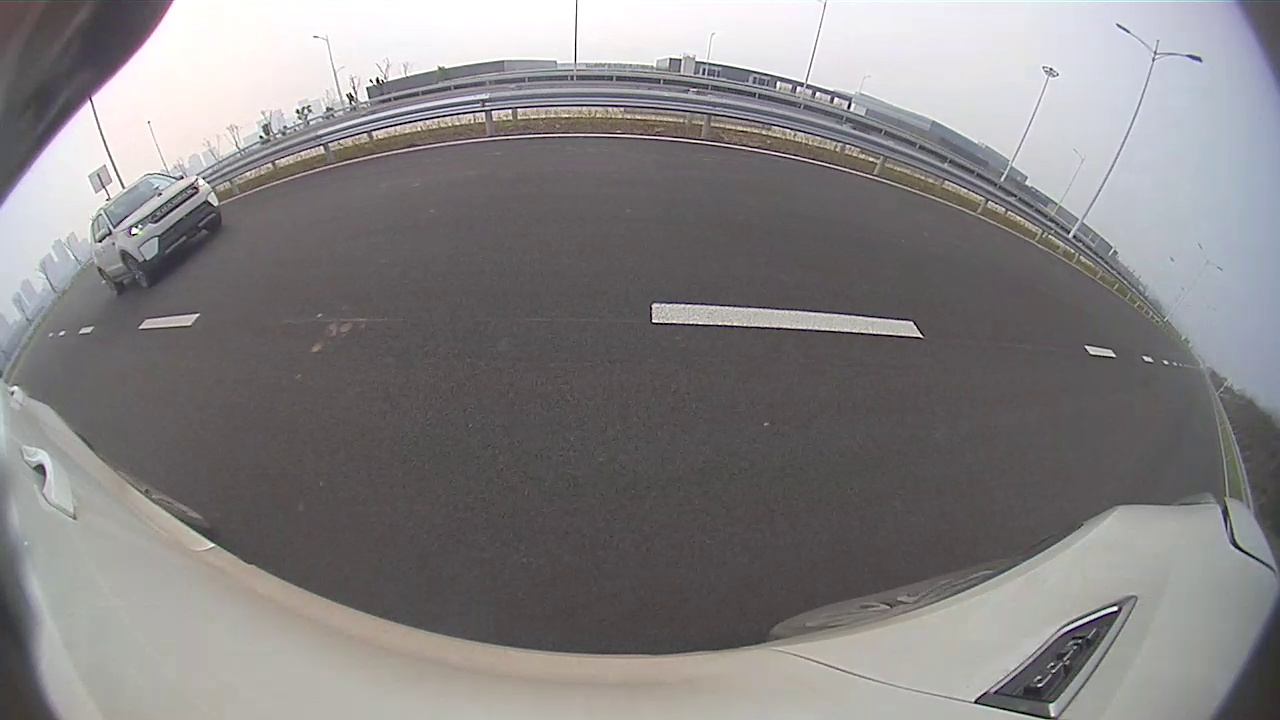car: (90, 172, 222, 297)
front: (120, 252, 150, 293)
